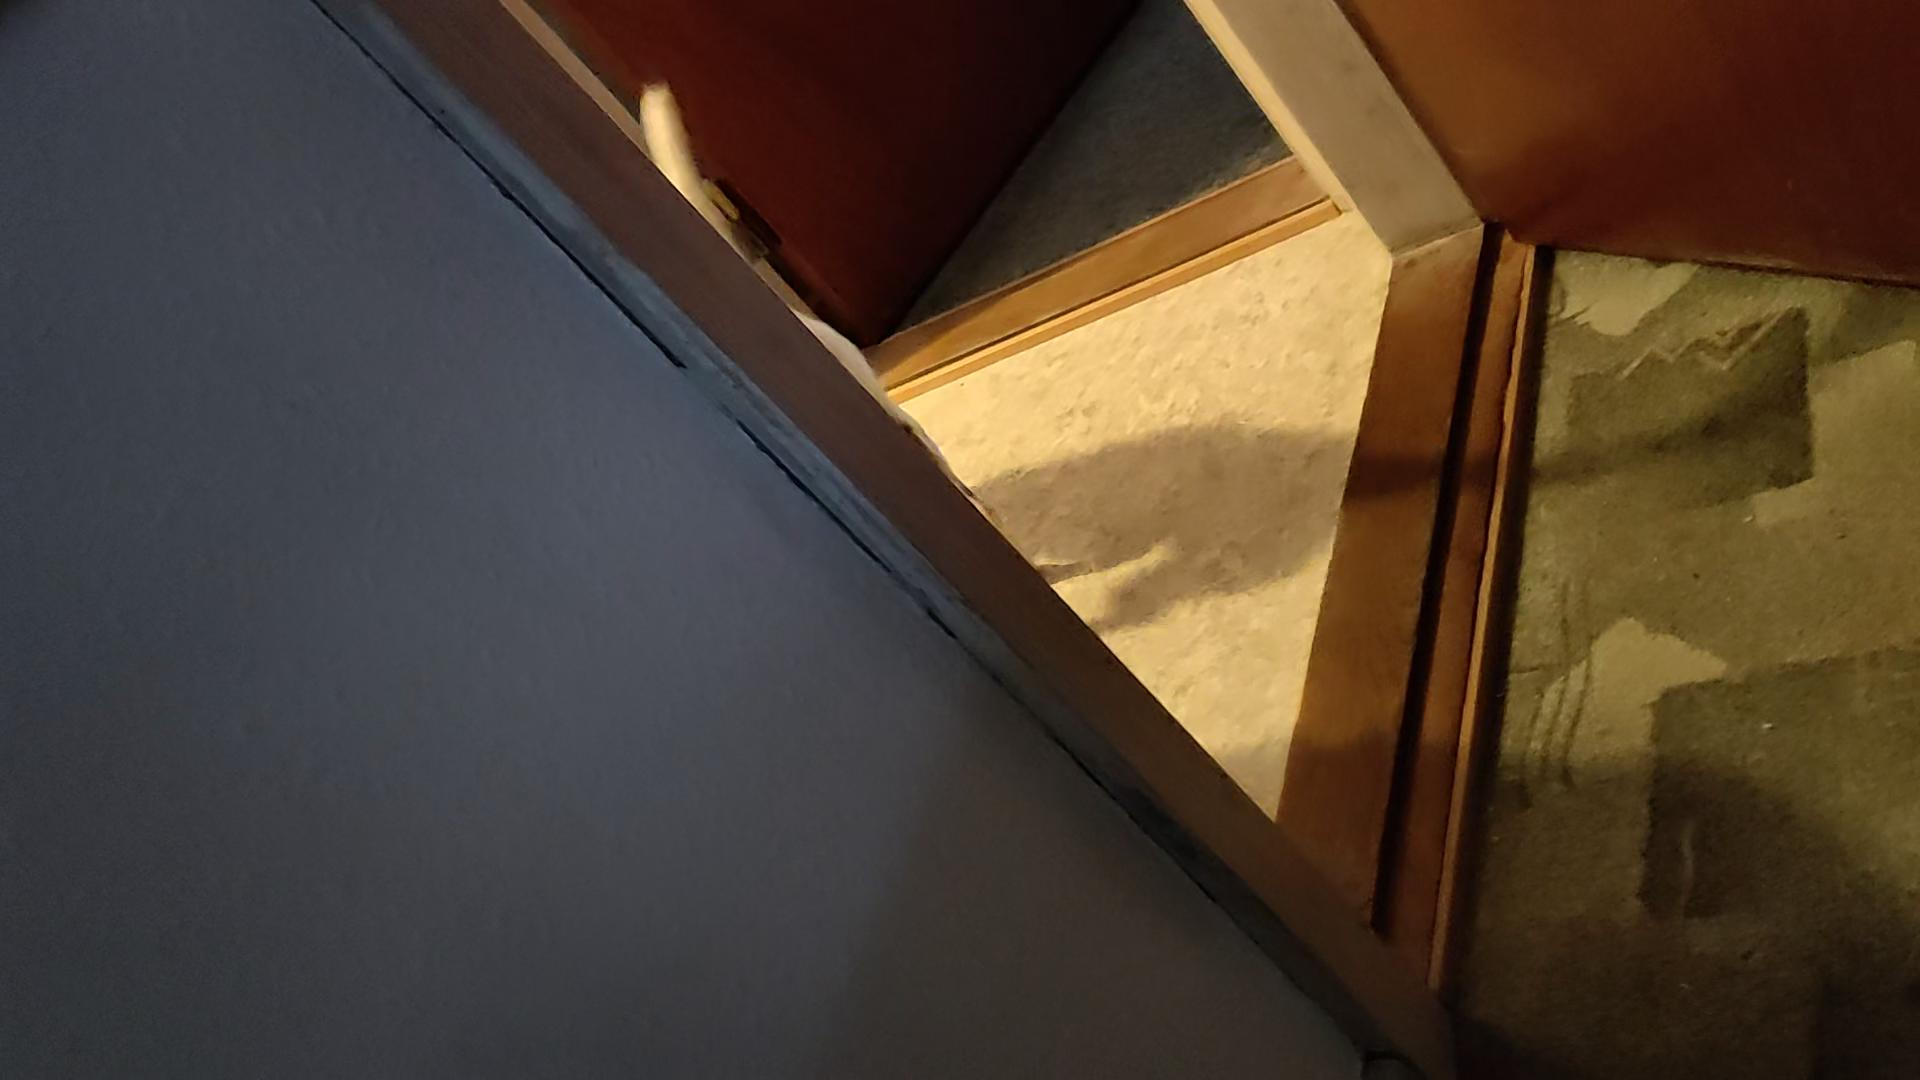Dog: (585, 55, 997, 529)
